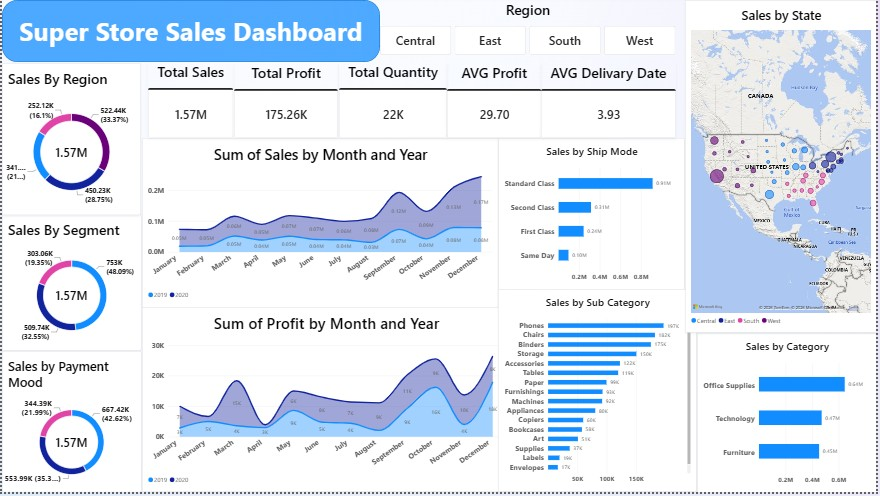

What the dashboard file says about the page in this screenshot:
{"tool":"powerbi","page":{"name":"Page 1","canvas":[1920,1080],"ordinal":0},"visuals":[{"type":"clusteredBarChart","title":"Sales by Category","fields":{"Category":["SuperStore_Sales_Dataset.Category"],"Y":["Sum(SuperStore_Sales_Dataset.Sales)"]},"box":[1525,730.1,395.3,349.9],"z":0},{"type":"clusteredBarChart","title":"Sales by Ship Mode","fields":{"Category":["SuperStore_Sales_Dataset.Ship Mode"],"Y":["Sum(SuperStore_Sales_Dataset.Sales)"]},"box":[1088.6,302.4,410.4,332.6],"z":1000},{"type":"stackedAreaChart","fields":{"Category":["SuperStore_Sales_Dataset.Order Date.Variation.Date Hierarchy.Month"],"Series":["SuperStore_Sales_Dataset.Order Date.Variation.Date Hierarchy.Year"],"Y":["Sum(SuperStore_Sales_Dataset.Sales)"]},"box":[306.7,302.4,781.9,371.5],"z":2000},{"type":"stackedAreaChart","fields":{"Category":["SuperStore_Sales_Dataset.Order Date.Variation.Date Hierarchy.Month"],"Series":["SuperStore_Sales_Dataset.Order Date.Variation.Date Hierarchy.Year"],"Y":["Sum(SuperStore_Sales_Dataset.Profit)"]},"box":[306.7,673.9,807.8,406.1],"z":3000},{"type":"donutChart","title":"Sales By Segment","fields":{"Category":["SuperStore_Sales_Dataset.Segment"],"Y":["Sum(SuperStore_Sales_Dataset.Sales)"]},"box":[0,470,306,300],"z":4000},{"type":"donutChart","title":"Sales by Payment Mood","fields":{"Category":["SuperStore_Sales_Dataset.Payment Mode"],"Y":["Sum(SuperStore_Sales_Dataset.Sales)"]},"box":[0,770,306,310],"z":5000},{"type":"clusteredBarChart","title":"Sales by Sub Category","fields":{"Category":["SuperStore_Sales_Dataset.Sub-Category"],"Y":["Sum(SuperStore_Sales_Dataset.Sales)"]},"box":[1088.6,635,436.3,445],"z":6000},{"type":"map","title":"Sales by State","fields":{"Category":["SuperStore_Sales_Dataset.State"],"Series":["SuperStore_Sales_Dataset.Region"],"Size":["Sum(SuperStore_Sales_Dataset.Sales)"]},"box":[1499,0,421.2,730.1],"z":7000},{"type":"advancedSlicerVisual","fields":{"Values":["SuperStore_Sales_Dataset.Region"]},"box":[829.8,0,649.8,120.7],"z":8000},{"type":"cardVisual","title":"Total Sales","fields":{"Data":["Sum(SuperStore_Sales_Dataset.Sales)"]},"box":[319.7,136.1,187.9,166.3],"z":11000},{"type":"cardVisual","title":"Total Profit","fields":{"Data":["Sum(SuperStore_Sales_Dataset.Profit)"]},"box":[509.8,138.2,229,164.2],"z":12000},{"type":"cardVisual","title":"Total Quantity","fields":{"Data":["Sum(SuperStore_Sales_Dataset.Quantity)"]},"box":[738.7,136.1,237.6,166.3],"z":13000},{"type":"cardVisual","title":"AVG Profit","fields":{"Data":["Avg(SuperStore_Sales_Dataset.Profit)"]},"box":[976.3,138.2,207.4,164.2],"z":14000},{"type":"cardVisual","title":"AVG Delivary Date","fields":{"Data":["Avg(SuperStore_Sales_Dataset.Avgdelivary)"]},"box":[1183.2,138.3,296.3,164.6],"z":15000},{"type":"donutChart","title":"Sales By Region","fields":{"Category":["SuperStore_Sales_Dataset.Region"],"Y":["Sum(SuperStore_Sales_Dataset.Sales)"]},"box":[0,138.3,305.1,333.7],"z":15001},{"type":"shape","box":[0,0,829.8,136.1],"z":15002},{"type":"textbox","box":[0,30.7,829.8,79],"z":15003}]}

Visuals, with their boxes in screenshot pixels (x1, y1, x2, y2), scaled from the page's 1920x1080 canvas onto the 880x496 screenshot:
"Sales by Category" clusteredBarChart: region(699, 335, 879, 495)
"Sales by Ship Mode" clusteredBarChart: region(499, 139, 687, 292)
stackedAreaChart - SuperStore_Sales_Dataset.Order Date.Variation.Date Hierarchy.Month x SuperStore_Sales_Dataset.Order Date.Variation.Date Hierarchy.Year: region(141, 139, 499, 309)
stackedAreaChart - SuperStore_Sales_Dataset.Order Date.Variation.Date Hierarchy.Month x SuperStore_Sales_Dataset.Order Date.Variation.Date Hierarchy.Year: region(141, 309, 511, 495)
"Sales By Segment" donutChart: region(0, 216, 140, 354)
"Sales by Payment Mood" donutChart: region(0, 354, 140, 495)
"Sales by Sub Category" clusteredBarChart: region(499, 292, 699, 495)
"Sales by State" map: region(687, 0, 879, 335)
advancedSlicerVisual - SuperStore_Sales_Dataset.Region: region(380, 0, 678, 55)
"Total Sales" cardVisual: region(147, 63, 233, 139)
"Total Profit" cardVisual: region(234, 63, 339, 139)
"Total Quantity" cardVisual: region(339, 63, 447, 139)
"AVG Profit" cardVisual: region(447, 63, 543, 139)
"AVG Delivary Date" cardVisual: region(542, 64, 678, 139)
"Sales By Region" donutChart: region(0, 64, 140, 217)
shape: region(0, 0, 380, 63)
textbox: region(0, 14, 380, 50)
